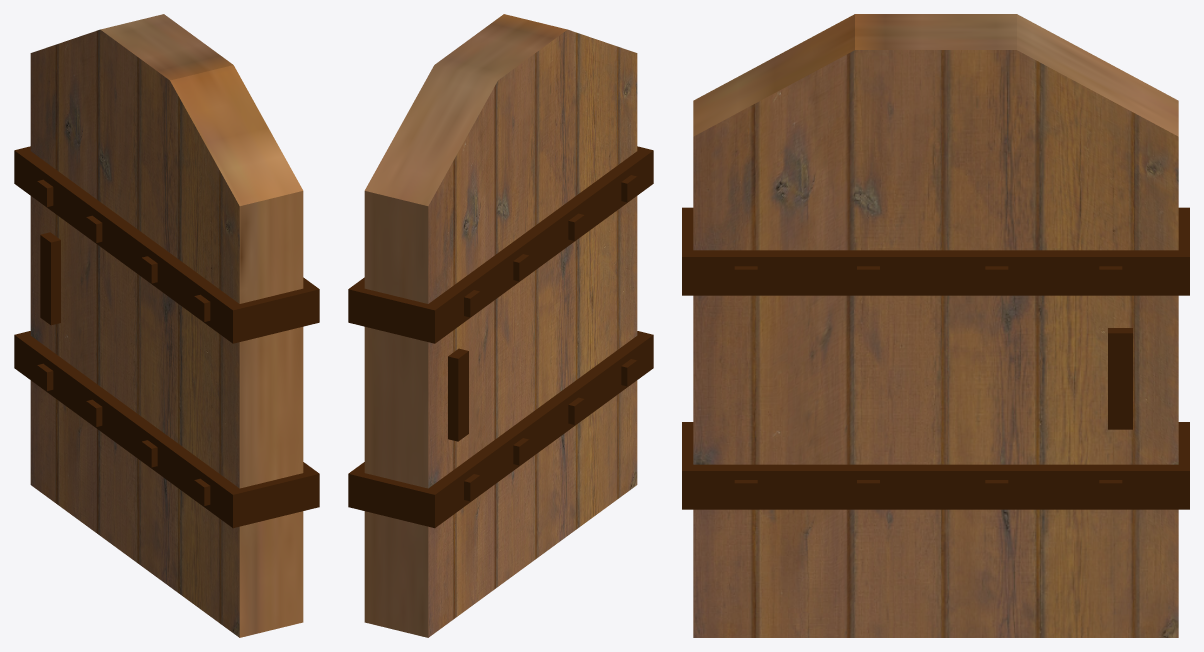
The model's file is lowpolydoor2.fbx.
3 renders of one model, left to right at view 1: azimuth 30°, elevation 25°; view 2: azimuth 150°, elevation 25°; view 3: azimuth 270°, elevation 25°, orthographic. The views are drawn at different scales.
Visible parts, largest first — view 1: Cube; view 2: Cube; view 3: Cube.
Boxes of the visible parts, x1,y1,x2,y2 form: Cube: [14, 14, 319, 637]; Cube: [348, 14, 653, 637]; Cube: [682, 14, 1189, 637].
Bounding box in the file's own units: 86.08 × 421 × 329.
